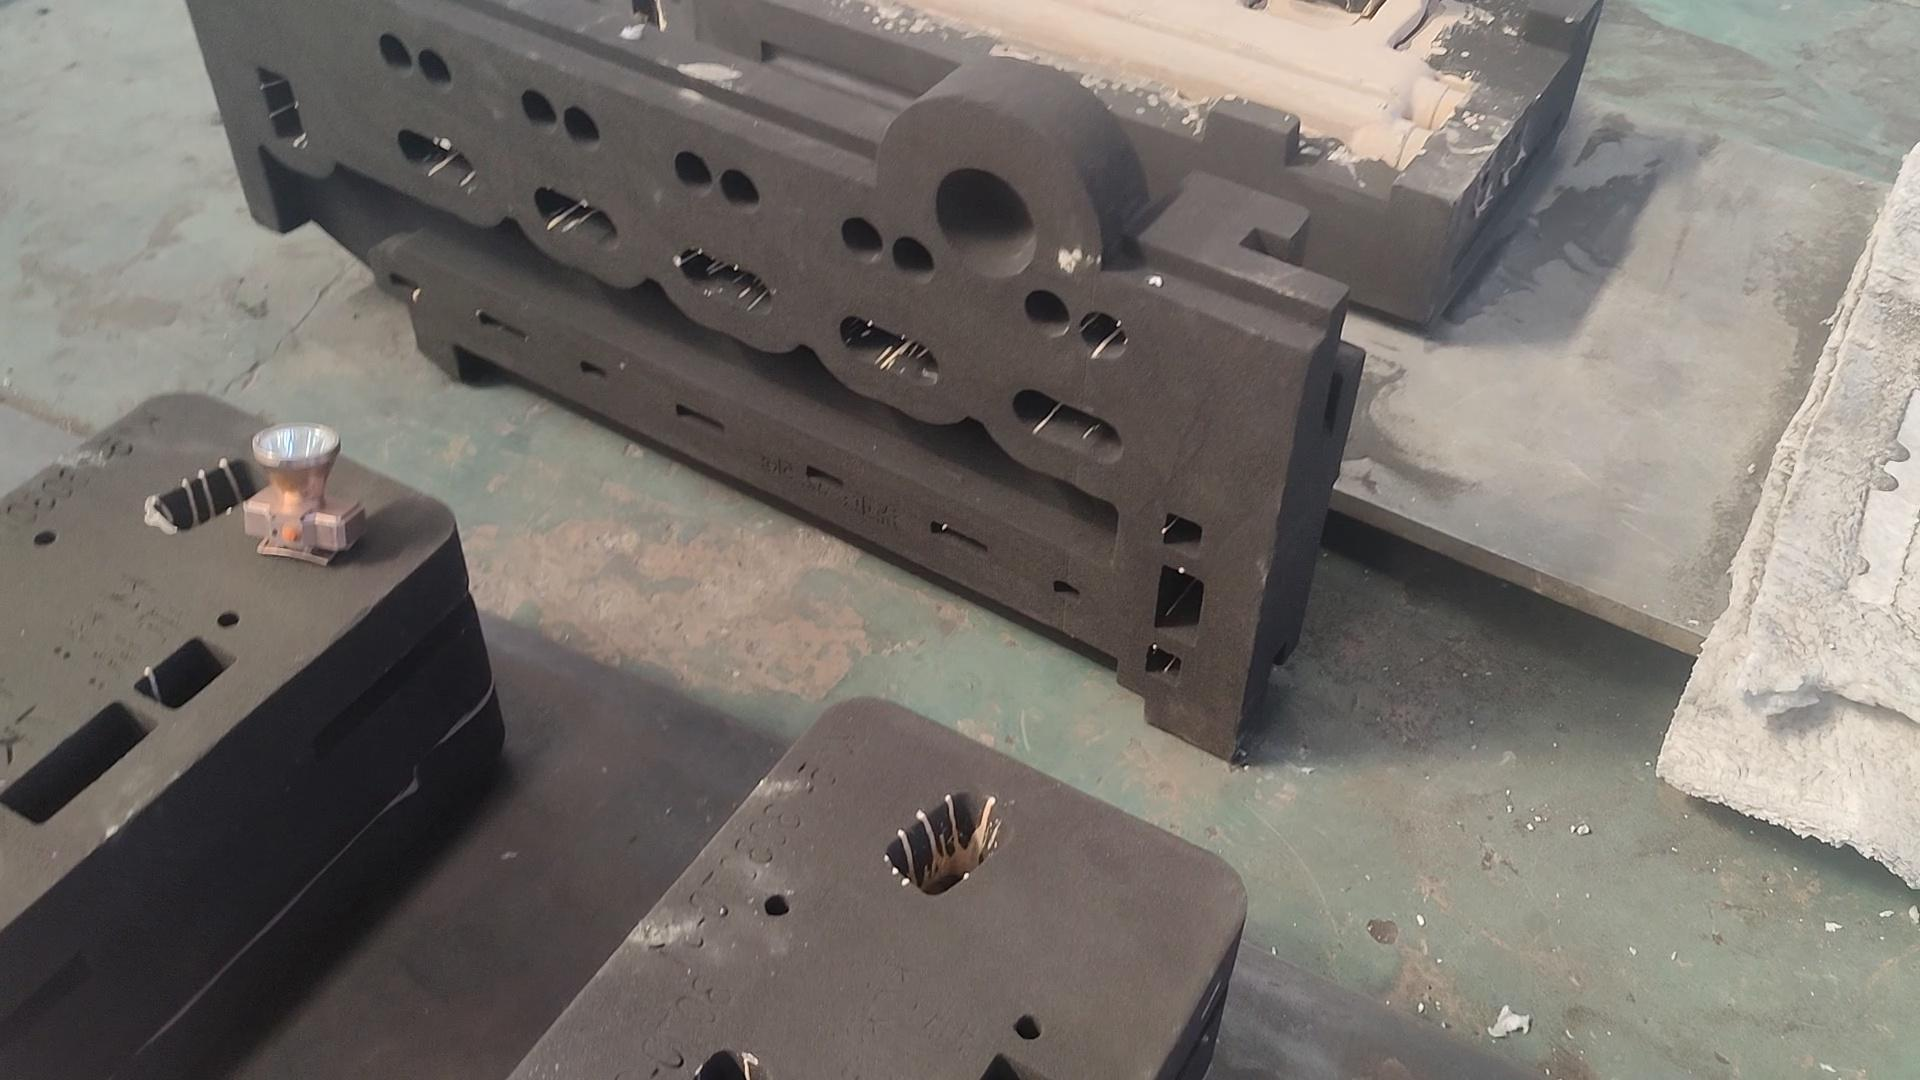pouring hole: (938, 167, 1036, 280)
